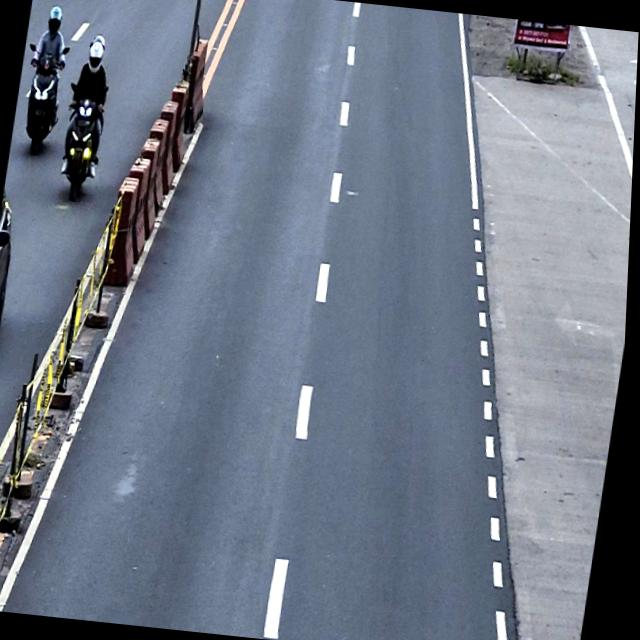Motorcycle: (55, 78, 110, 202), (14, 41, 70, 157)
